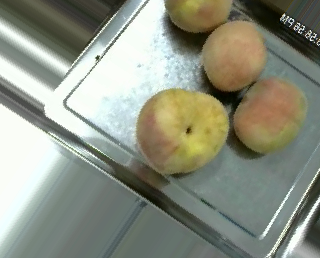Peach: (135, 87, 229, 174), (230, 77, 307, 154), (202, 19, 266, 90), (158, 0, 233, 33)
